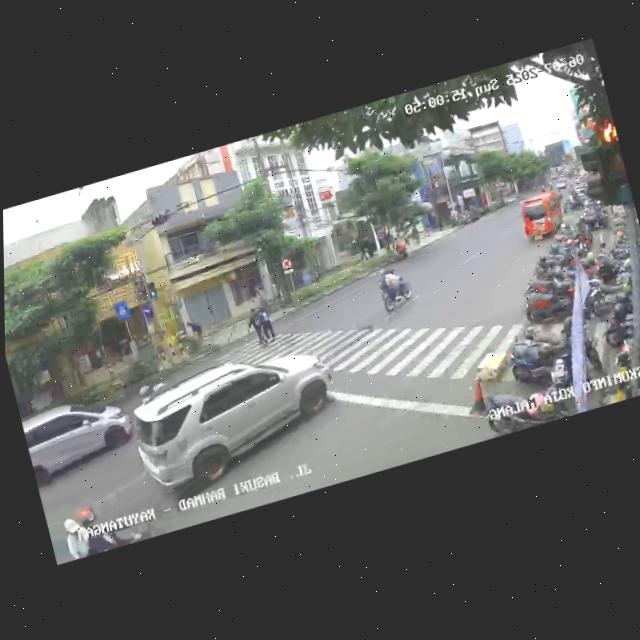car: (126, 334, 348, 506), (20, 386, 138, 491), (515, 186, 569, 245)
motorcycle: (54, 493, 123, 562), (374, 265, 417, 317)
person: (241, 305, 269, 348), (258, 303, 278, 345)
